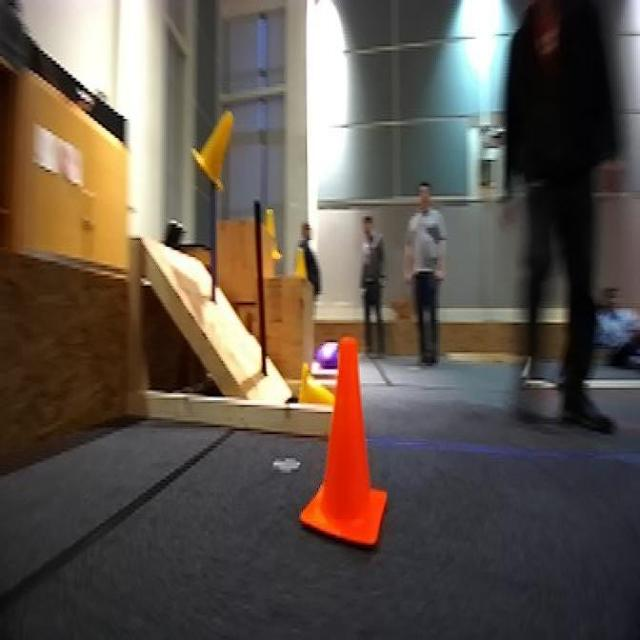frc_cone: (187, 106, 240, 192), (294, 363, 332, 405), (267, 204, 281, 259), (294, 240, 308, 281)
frc_cube: (315, 337, 339, 374)
